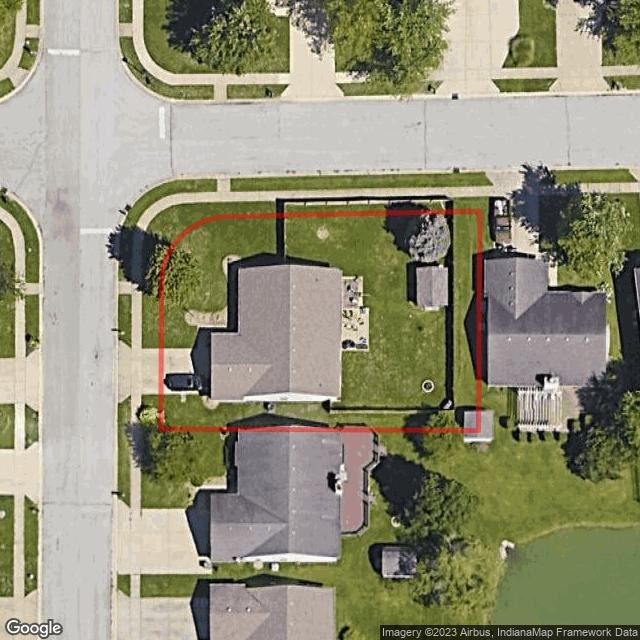Driveway: (163, 348, 211, 396)
Extra Driveway: (118, 339, 159, 403)
Extra Lawn: (142, 197, 483, 348), (119, 179, 218, 282), (230, 172, 484, 192), (118, 294, 131, 348), (142, 394, 159, 430), (118, 396, 131, 430)
Extra Sidewalk: (119, 178, 484, 349), (131, 394, 142, 430)
House: (210, 264, 342, 403)
Other: (341, 276, 369, 352), (417, 265, 449, 307), (464, 410, 477, 428), (421, 380, 435, 393), (264, 401, 276, 414)
Sidewalk: (185, 254, 244, 348), (202, 396, 219, 411)
